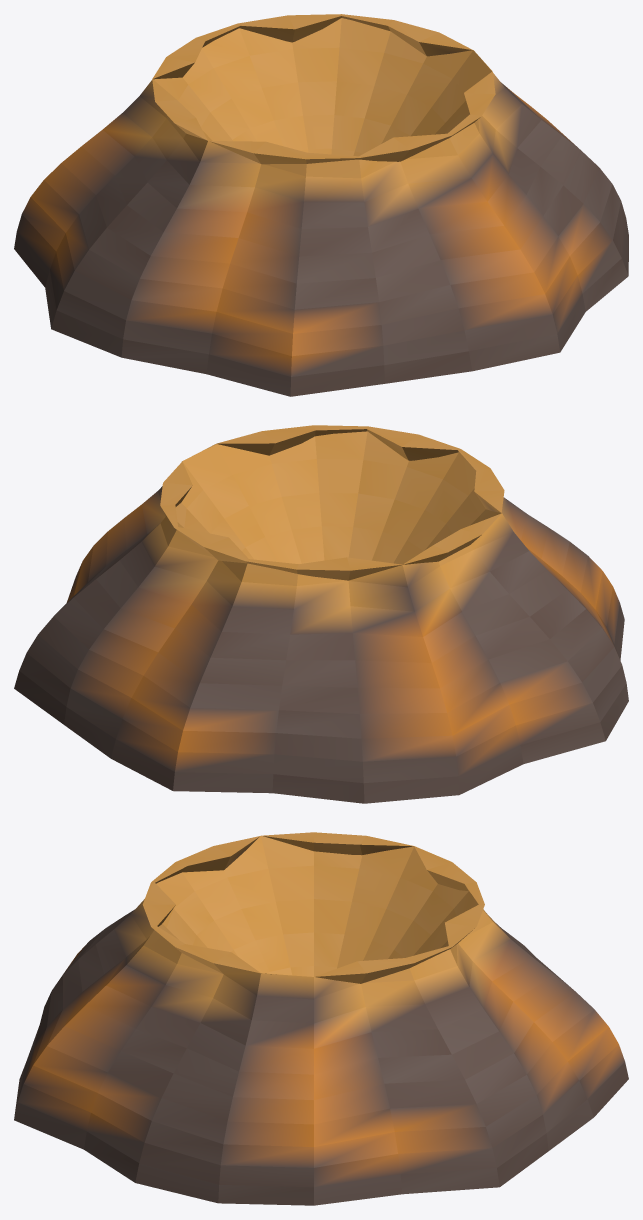
File: Lava_Vent.glb
3 renders of one model, top to bottom at view 1: azimuth 30°, elevation 25°; view 2: azimuth 150°, elevation 25°; view 3: azimuth 270°, elevation 25°, orthographic.
Parts seen in each view (by area): view 1: LavaVent; view 2: LavaVent; view 3: LavaVent.
Boxes of the visible parts, box(x1,y1,x2,y2) form: LavaVent: box(14, 14, 628, 396); LavaVent: box(14, 425, 628, 803); LavaVent: box(14, 832, 628, 1205).
Size of the model in its own units: 1.43 by 0.47 by 1.44.
